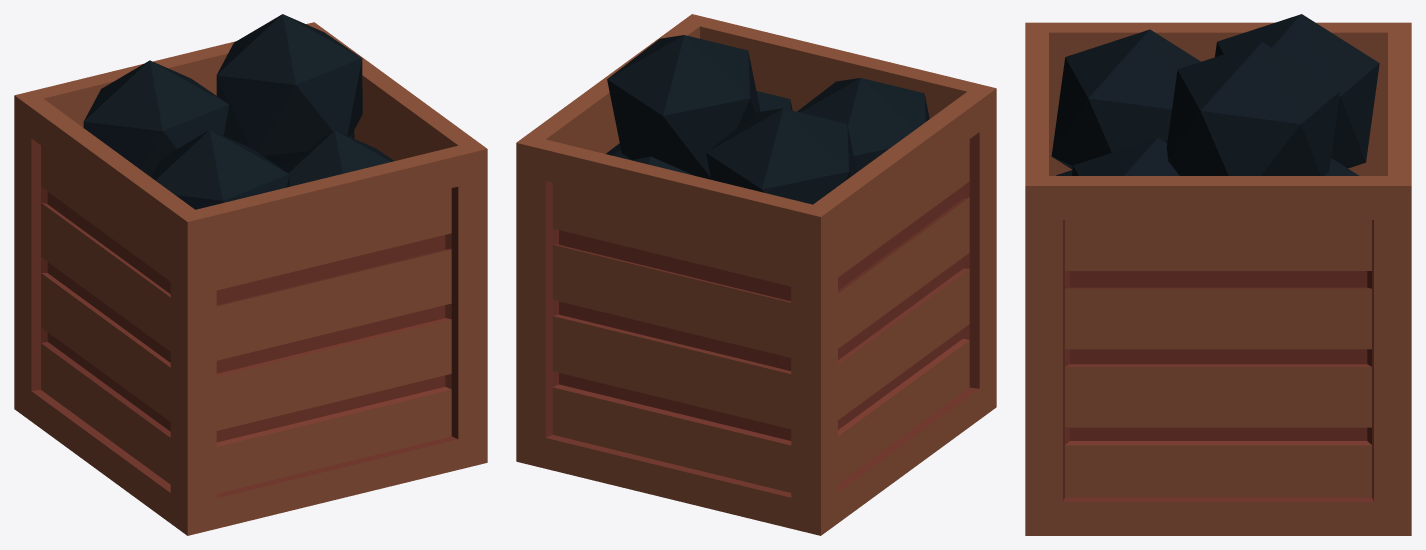
Rendered from CoalBox.fbx.
3 views of the same model, side by side, from view 1: azimuth 30°, elevation 25°; view 2: azimuth 150°, elevation 25°; view 3: azimuth 270°, elevation 25° (orthographic). The views are drawn at different scales.
Parts seen in each view (by area): view 1: Cube; view 2: Cube; view 3: Cube.
Part boxes in pixels (x1=…): Cube: x1=14, y1=14, x2=487, y2=535; Cube: x1=516, y1=14, x2=996, y2=535; Cube: x1=1025, y1=14, x2=1411, y2=535.
Bounding box in the file's own units: 400 × 503 × 400.
